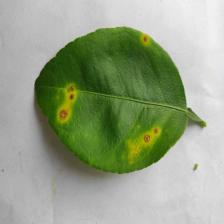canker: (50, 67, 166, 144)
